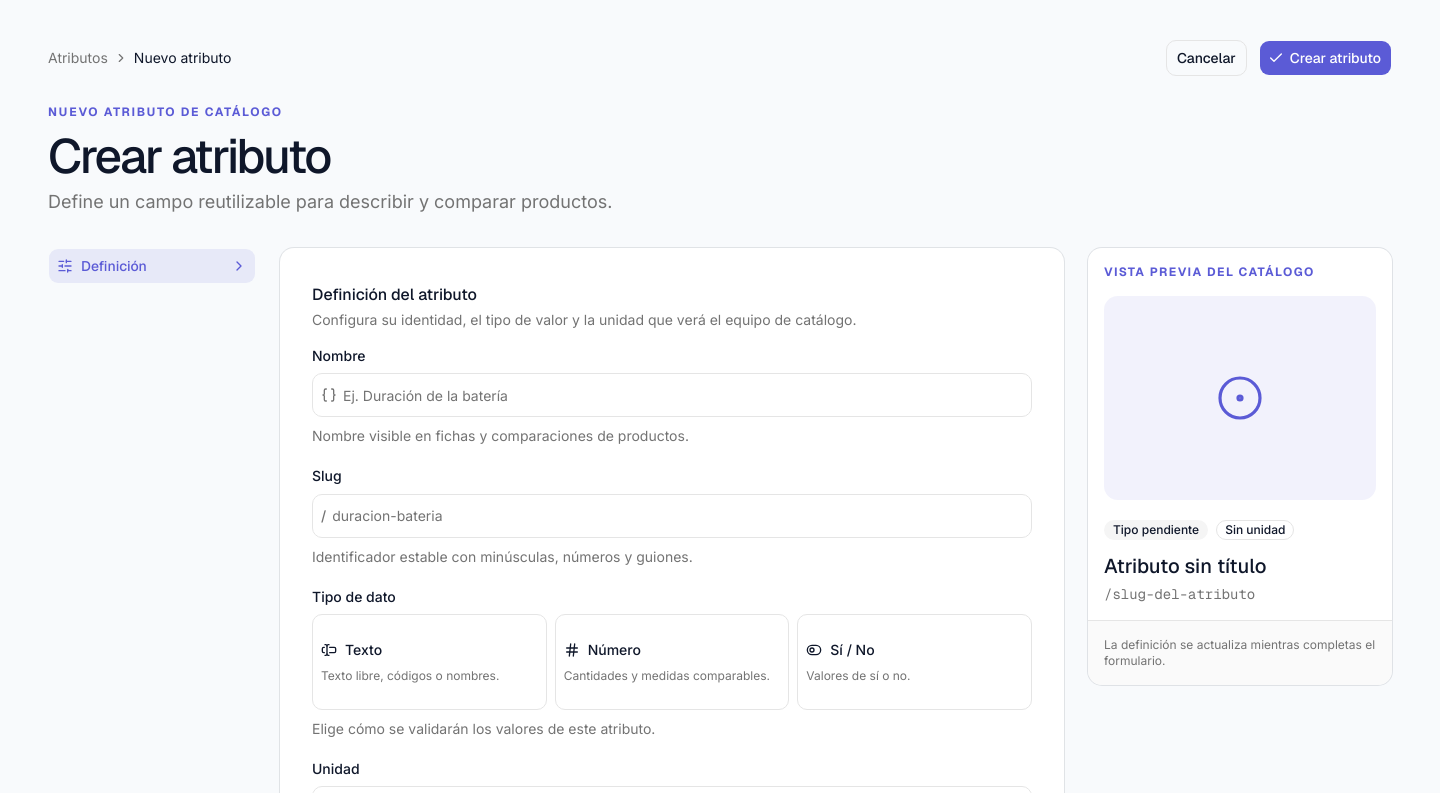
it: AttributeForm › shows field and form errors returned by the server
In the field labelled "Nombre": (684, 395) [337,379,1031,411], type "Bluetooth"
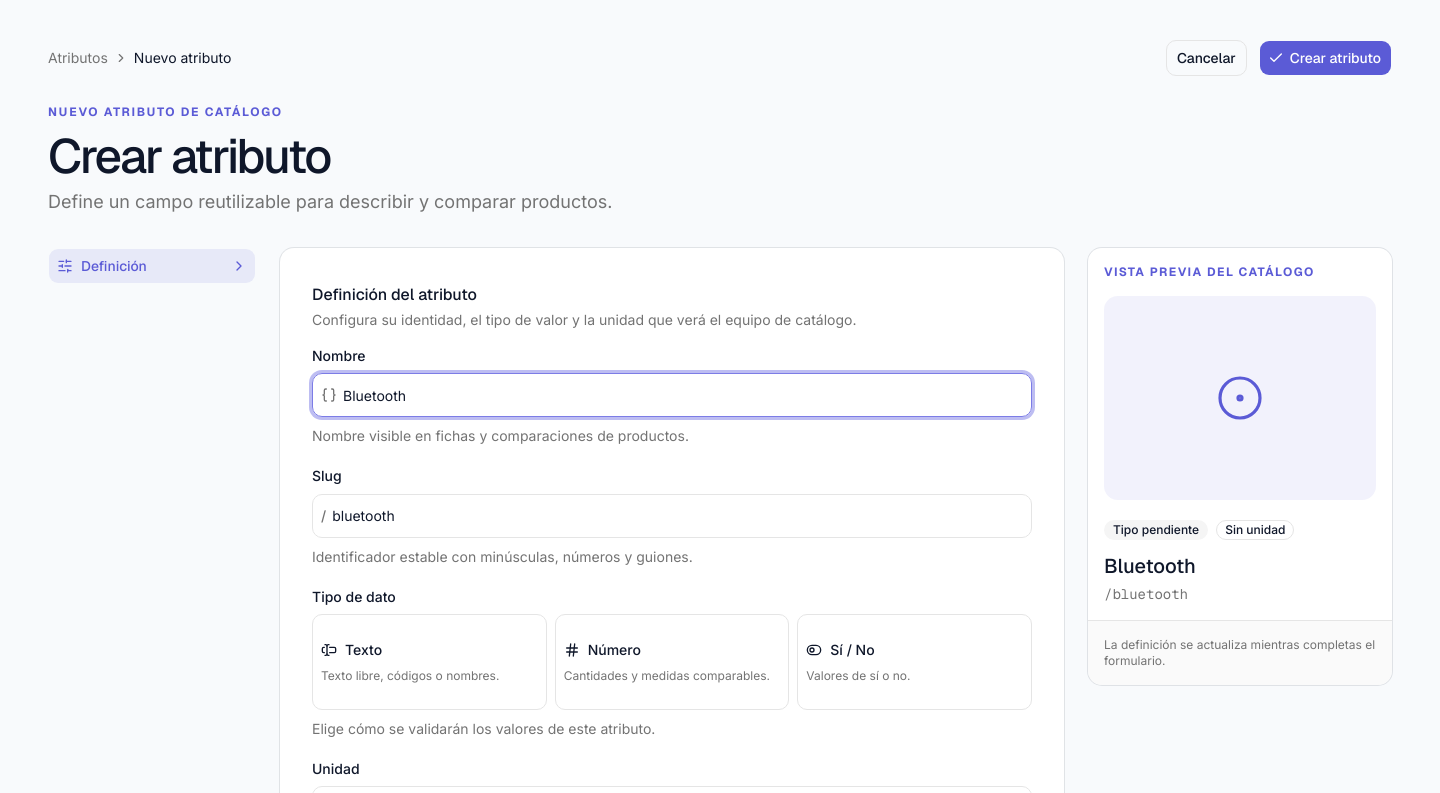
Click the button "Sí / No Valores de sí o no.": (915, 662) [797,614,1032,710]
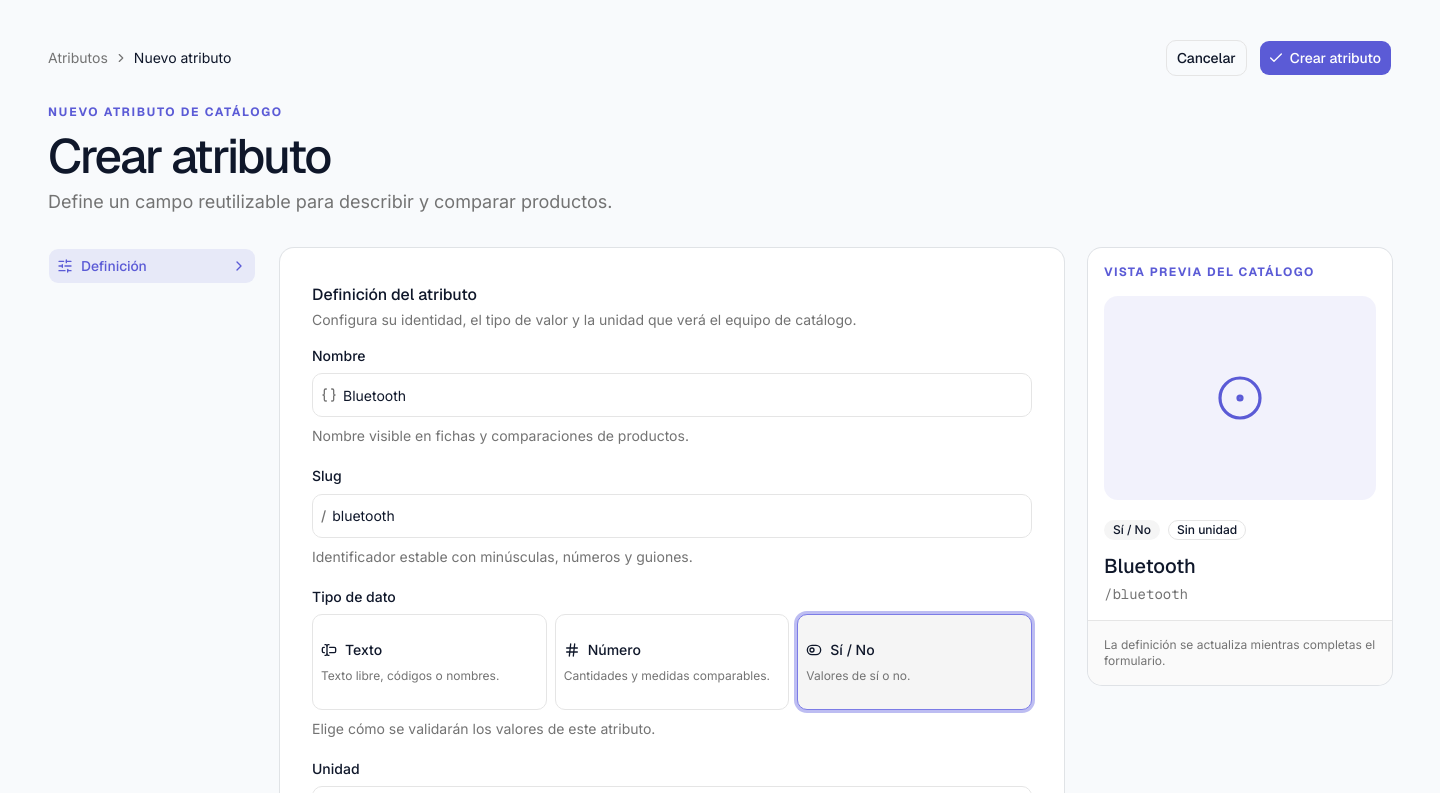
Click the button "Crear atributo": (1325, 58) [1259,40,1392,76]
(page scrolled)
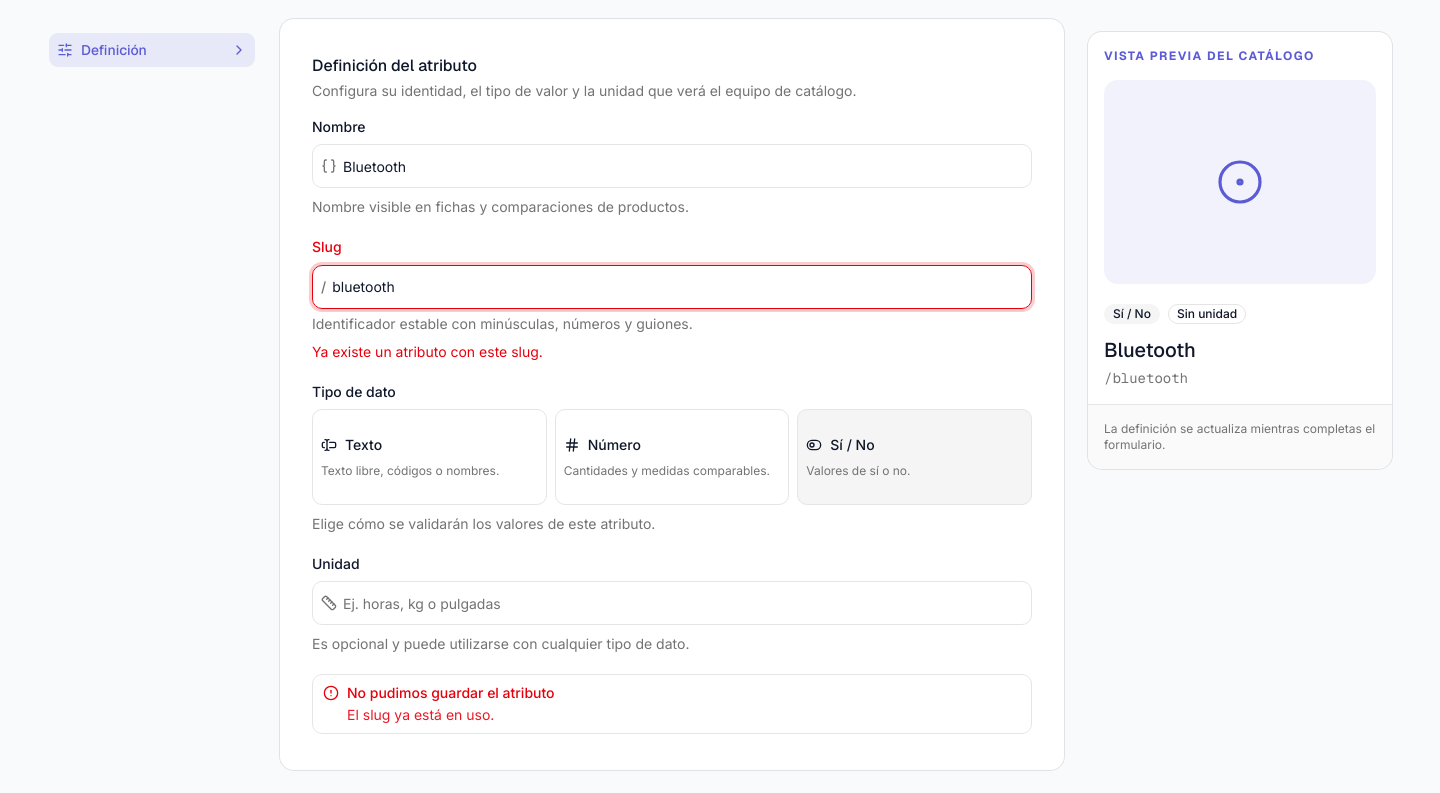
Check: the text "Ya existe un atributo con este slug." is shown, box [312,342,543,360]
Check: the text "El slug ya está en uso." is shown, box [347,706,494,723]
